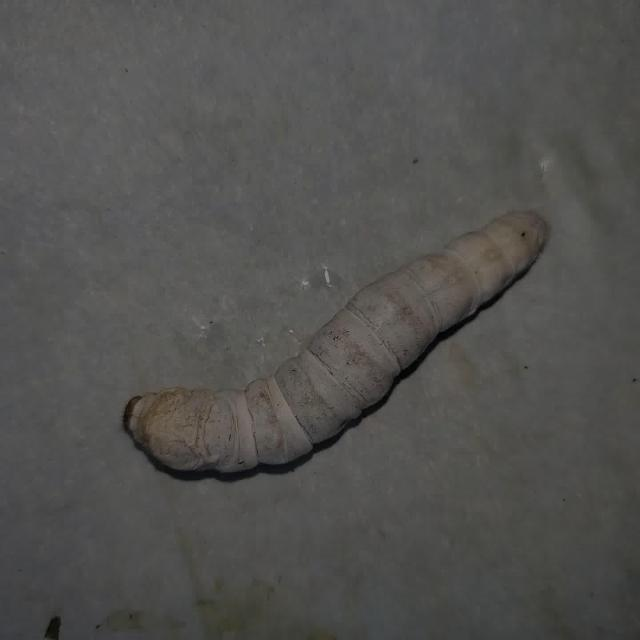Grasserie: (86, 182, 591, 498)
